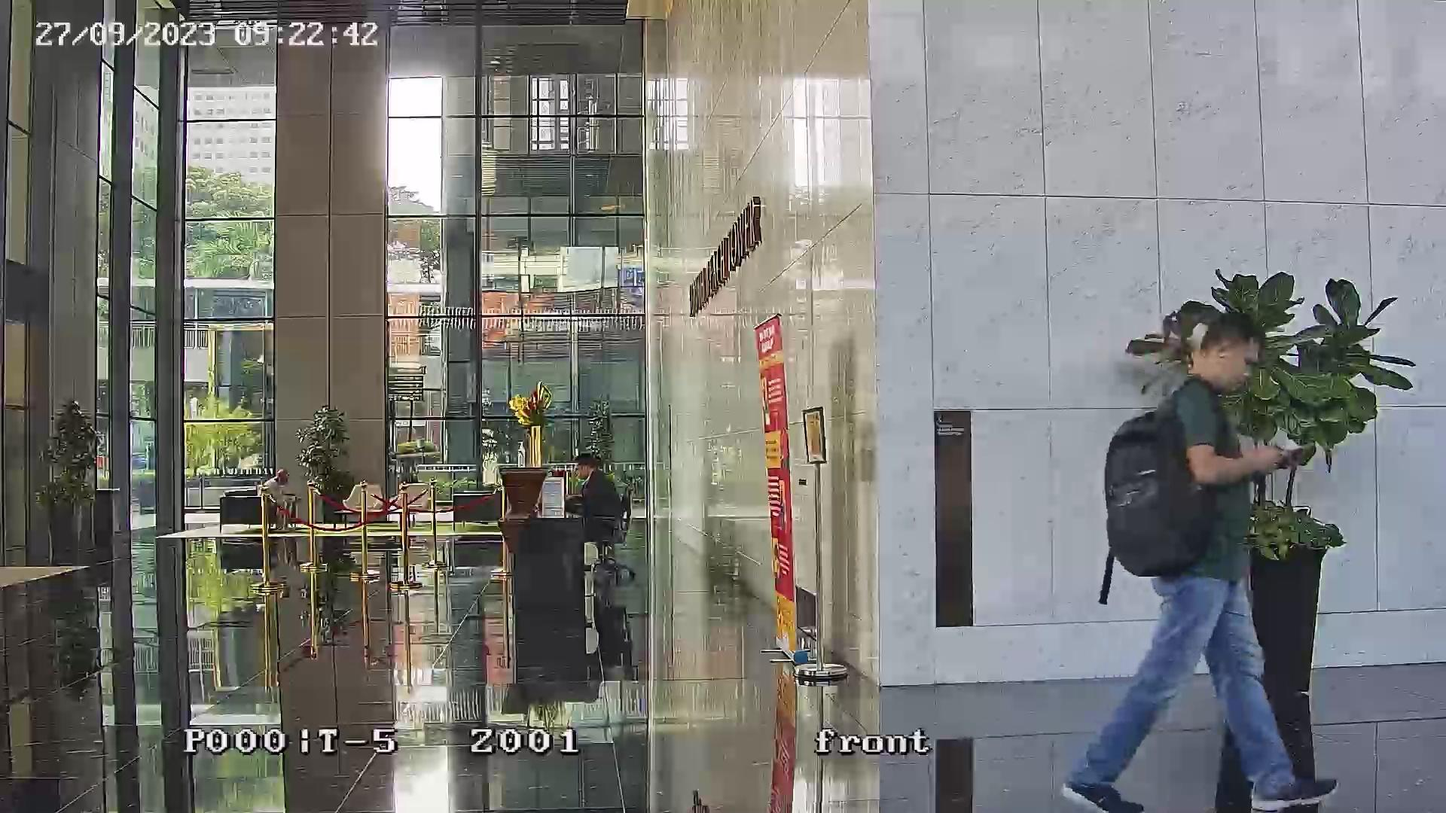person: (1063, 312, 1335, 809), (569, 451, 622, 538), (262, 467, 294, 533)
